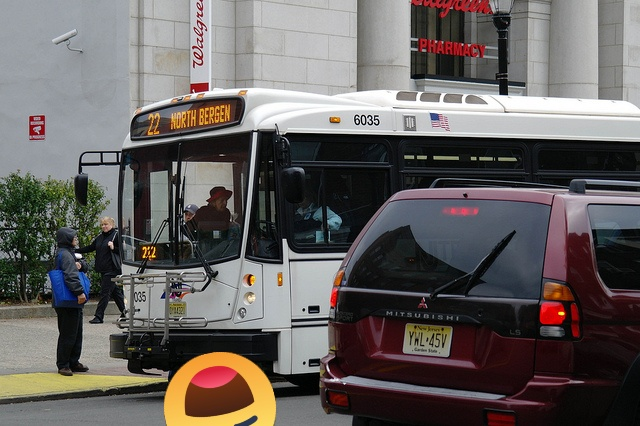haha: (164, 352, 276, 426)
